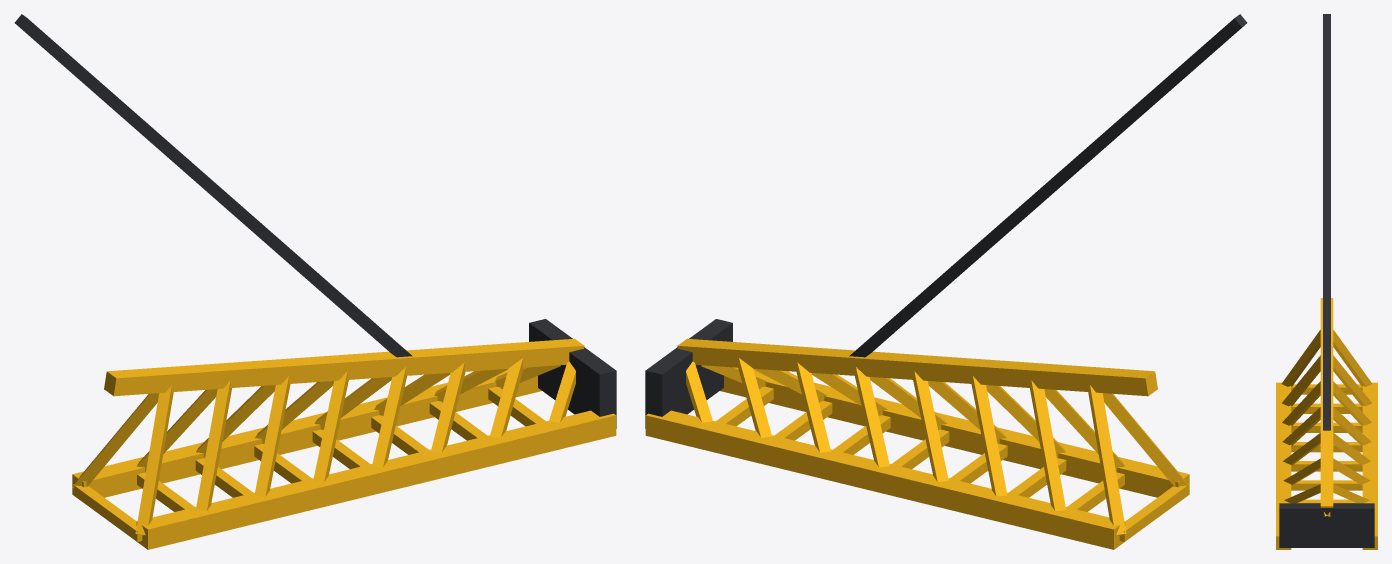
File: crane_jib.glb
3 renders of one model, left to right at view 1: azimuth 30°, elevation 25°; view 2: azimuth 150°, elevation 25°; view 3: azimuth 270°, elevation 25°, orthographic. The views are drawn at different scales.
Parts seen in each view (by area): view 1: Cube, Cube.002, Cube.001, Cube.028, Cube.027, Cube.003, Cube.006, Cube.009, Cube.012, Cube.004, Cube.015, Cube.018 (+9 smaller); view 2: Cube.001, Cube.002, Cube, Cube.028, Cube.027, Cube.004, Cube.007, Cube.010, Cube.013, Cube.003, Cube.016, Cube.019 (+9 smaller); view 3: Cube.027, Cube.028, Cube.002, Cube, Cube.001, Cube.003, Cube.004, Cube.006, Cube.007, Cube.009, Cube.010, Cube.020 (+14 smaller).
Part boxes in pixels (left/top/right/bottom): Cube: left=136, top=410, right=616, bottom=549; Cube.002: left=104, top=338, right=584, bottom=396; Cube.001: left=72, top=369, right=541, bottom=497; Cube.028: left=14, top=14, right=412, bottom=357; Cube.027: left=529, top=319, right=616, bottom=428; Cube.003: left=135, top=385, right=173, bottom=535; Cube.006: left=195, top=380, right=231, bottom=511; Cube.009: left=254, top=376, right=290, bottom=496; Cube.012: left=313, top=371, right=348, bottom=481; Cube.004: left=72, top=393, right=159, bottom=488; Cube.015: left=372, top=367, right=406, bottom=467; Cube.018: left=431, top=362, right=465, bottom=452; Cube.001: left=645, top=410, right=1125, bottom=549; Cube.002: left=677, top=338, right=1157, bottom=396; Cube: left=720, top=369, right=1189, bottom=497; Cube.028: left=849, top=14, right=1247, bottom=357; Cube.027: left=645, top=319, right=732, bottom=428; Cube.004: left=1088, top=385, right=1126, bottom=535; Cube.007: left=1030, top=380, right=1066, bottom=511; Cube.010: left=971, top=376, right=1007, bottom=496; Cube.013: left=913, top=371, right=948, bottom=481; Cube.003: left=1102, top=393, right=1189, bottom=488; Cube.016: left=855, top=367, right=889, bottom=467; Cube.019: left=796, top=362, right=830, bottom=452; Cube.027: left=1279, top=503, right=1374, bottom=547; Cube.028: left=1323, top=14, right=1330, bottom=430; Cube.002: left=1320, top=298, right=1333, bottom=507; Cube: left=1276, top=382, right=1291, bottom=549; Cube.001: left=1362, top=382, right=1377, bottom=549; Cube.003: left=1281, top=330, right=1320, bottom=386; Cube.004: left=1333, top=330, right=1372, bottom=386; Cube.006: left=1282, top=355, right=1320, bottom=406; Cube.007: left=1333, top=355, right=1371, bottom=406; Cube.009: left=1282, top=381, right=1320, bottom=426; Cube.010: left=1333, top=381, right=1371, bottom=426; Cube.020: left=1291, top=480, right=1362, bottom=490.
Size of the model in its own units: 1.02 by 0.9036 by 0.235.
